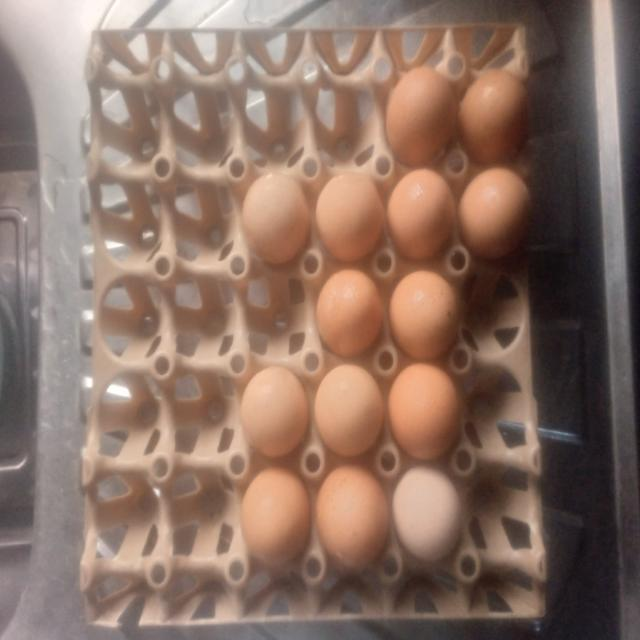Eggs: (317, 468, 393, 580), (396, 469, 470, 576), (238, 468, 310, 577), (386, 64, 458, 167), (239, 361, 310, 461), (235, 171, 312, 261), (463, 64, 531, 164), (317, 363, 388, 458), (392, 363, 463, 458), (316, 169, 385, 260), (465, 175, 530, 269), (392, 273, 462, 357), (312, 272, 383, 354), (390, 174, 455, 255)
